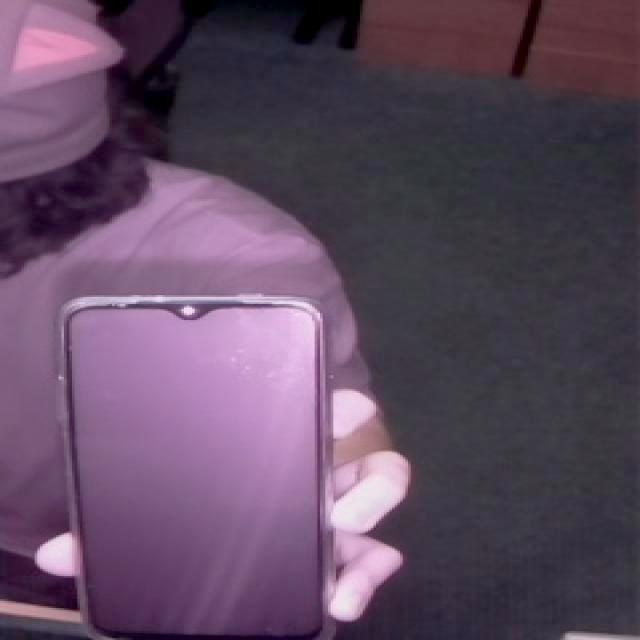phone: (48, 281, 362, 640)
